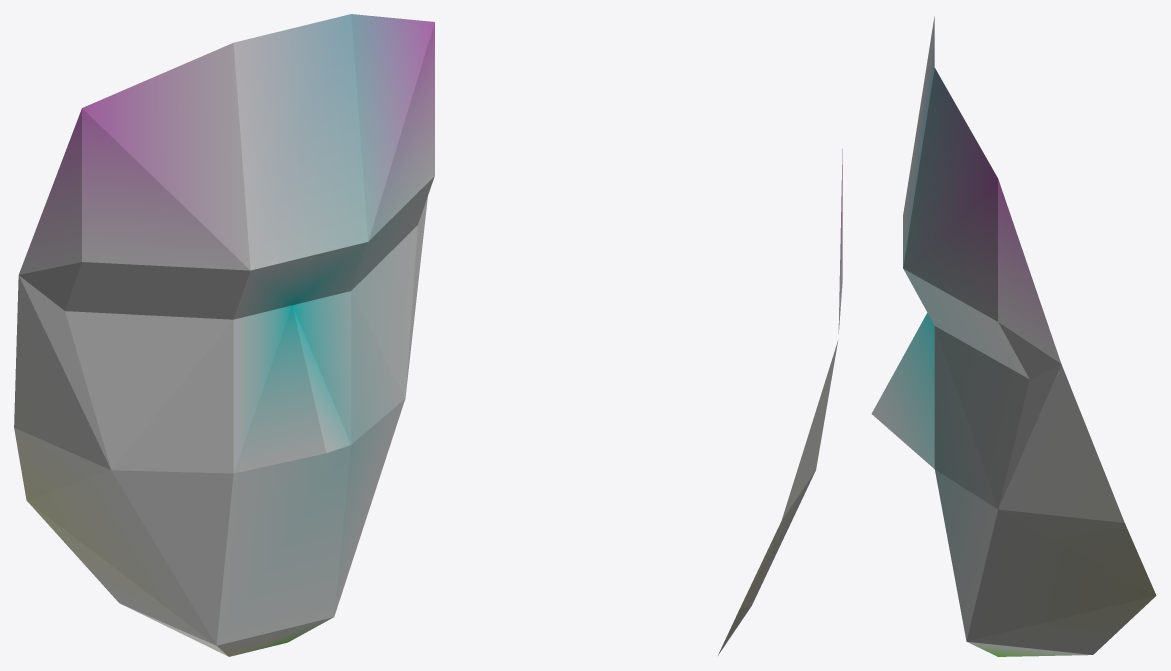
3 renders of one model, left to right at view 1: azimuth 30°, elevation 25°; view 2: azimuth 150°, elevation 25°; view 3: azimuth 270°, elevation 25°, orthographic. The views are drawn at different scales.
Parts seen in each view (by area): view 1: model_1420; view 2: model_1420; view 3: model_1420.
Boxes of the visible parts, x1=… form: model_1420: x1=14, y1=14, x2=434, y2=656; model_1420: x1=718, y1=149, x2=842, y2=655; model_1420: x1=871, y1=16, x2=1156, y2=656.
Bounding box in the file's own units: 14 × 21 × 9.
